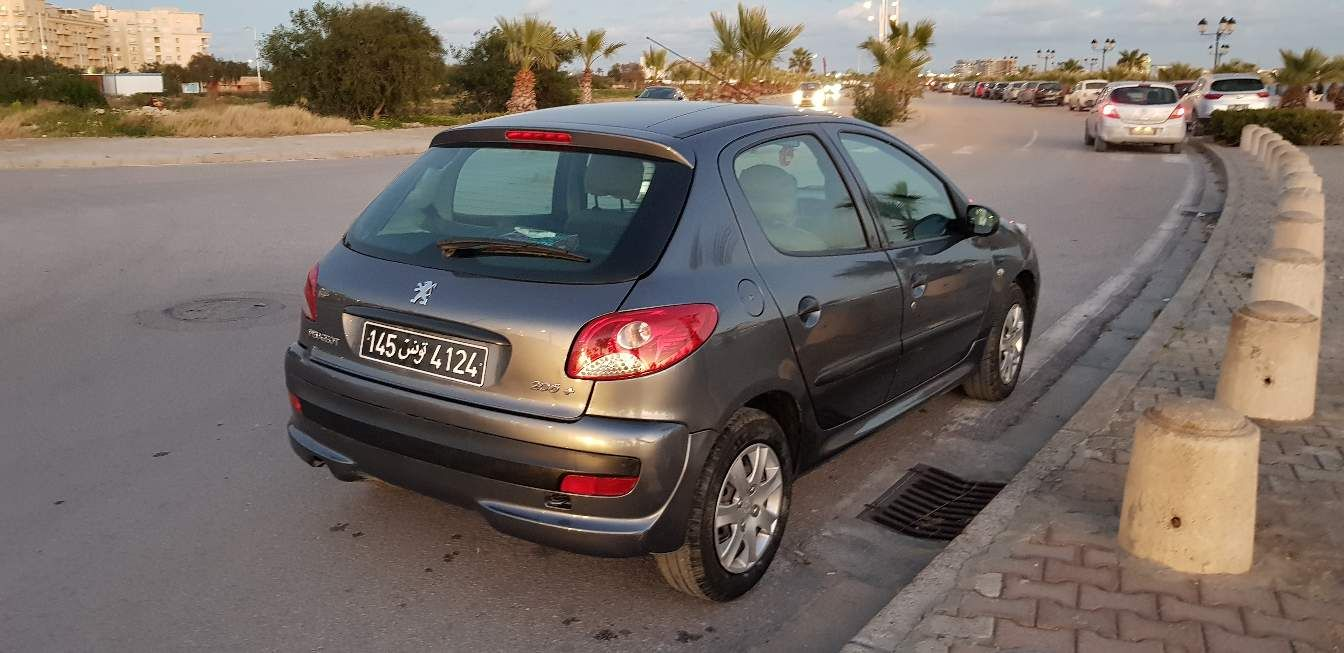LP: (357, 318, 491, 387)
